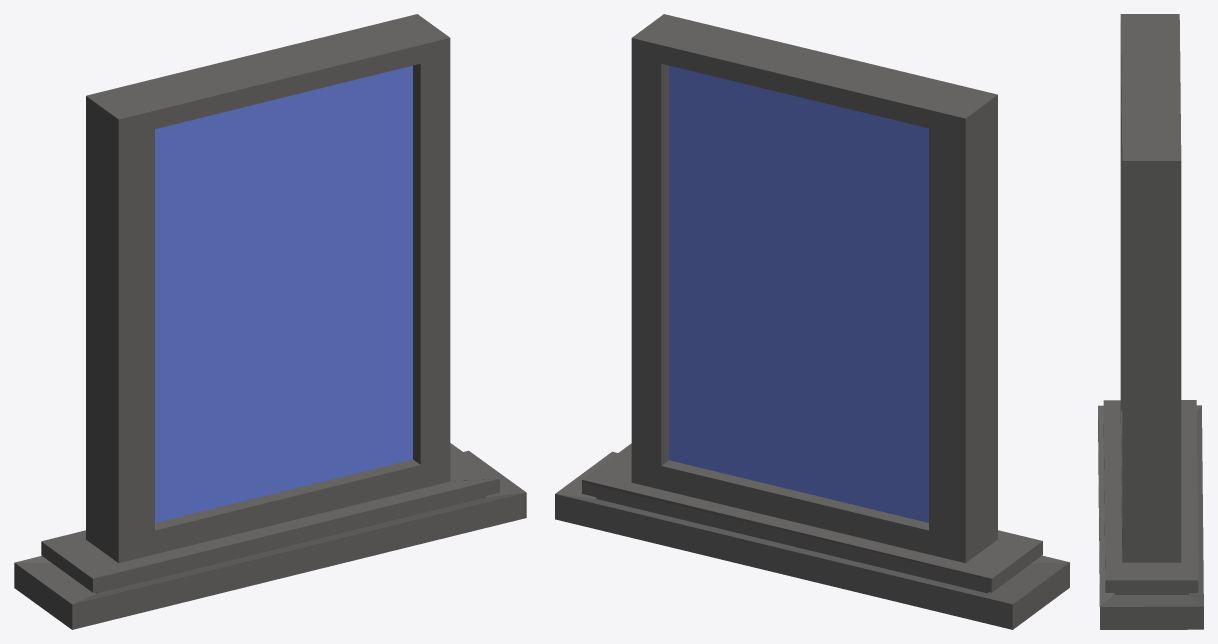
File: sign.fbx
3 views of the same model, side by side, from view 1: azimuth 30°, elevation 25°; view 2: azimuth 150°, elevation 25°; view 3: azimuth 270°, elevation 25° (orthographic). The views are drawn at different scales.
Parts seen in each view (by area): view 1: sign; view 2: sign; view 3: sign.
Part boxes in pixels (box(x1,y1,x2,y2)): sign: box(14, 14, 526, 629); sign: box(555, 14, 1069, 629); sign: box(1098, 14, 1203, 629).
Size of the model in its own units: 104 by 106 by 23.18.
